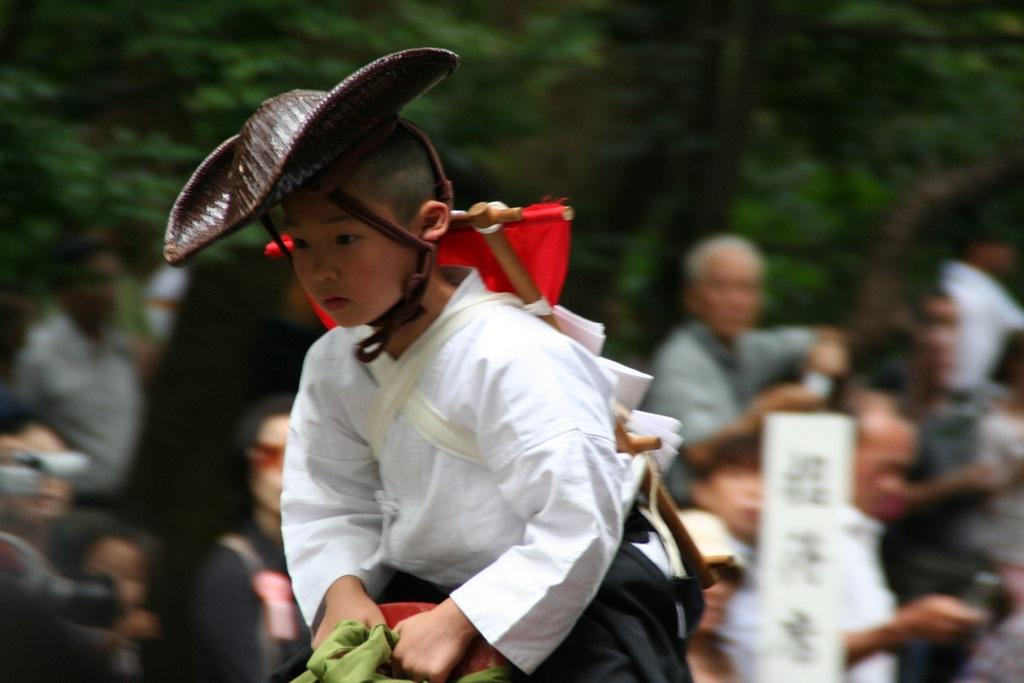Hat: (162, 44, 457, 358)
